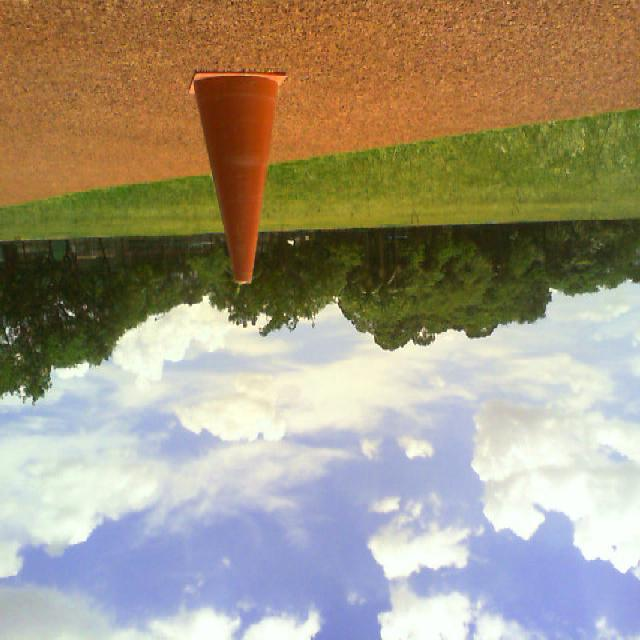cone: (188, 71, 288, 284)
